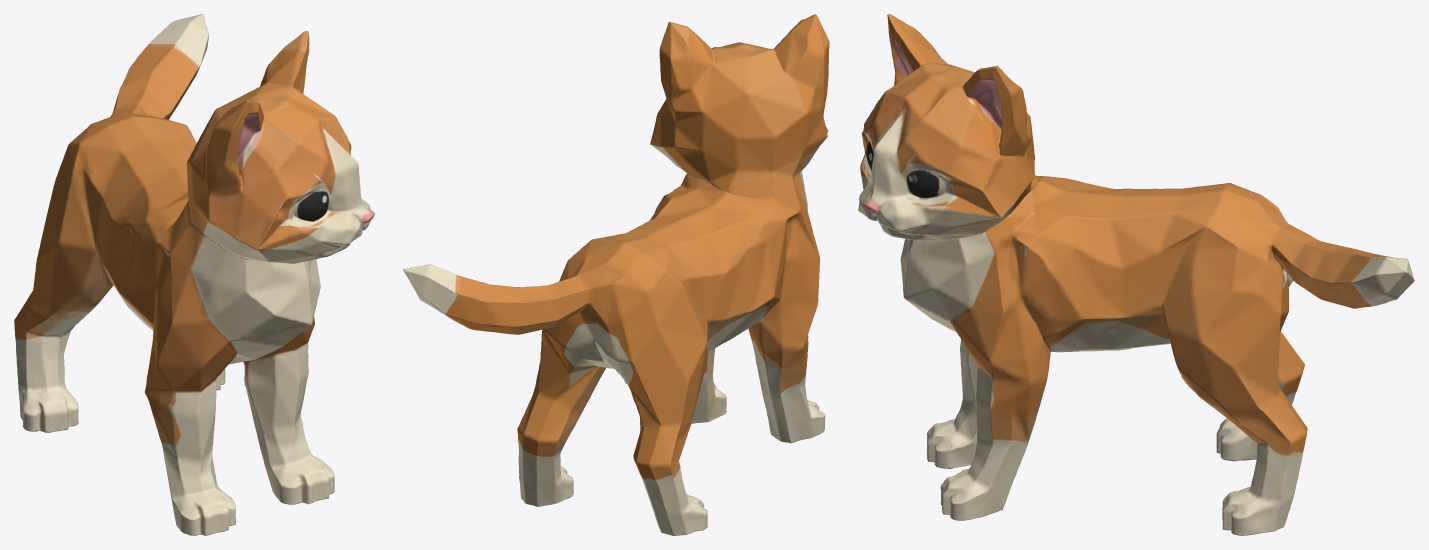
The model's file is Cat_Standing_2K_PBR.glb.
3 views of the same model, side by side, from view 1: azimuth 30°, elevation 25°; view 2: azimuth 150°, elevation 25°; view 3: azimuth 270°, elevation 25° (orthographic). The views are drawn at different scales.
Visible parts, largest first — view 1: texture_mapping; view 2: texture_mapping; view 3: texture_mapping.
Boxes of the visible parts, x1,y1,x2,y2 form: texture_mapping: [14, 14, 374, 535]; texture_mapping: [403, 14, 829, 535]; texture_mapping: [858, 14, 1414, 535].
Size of the model in its own units: 0.5464 by 0.8983 by 0.9988.
1 material, 1 textured.
